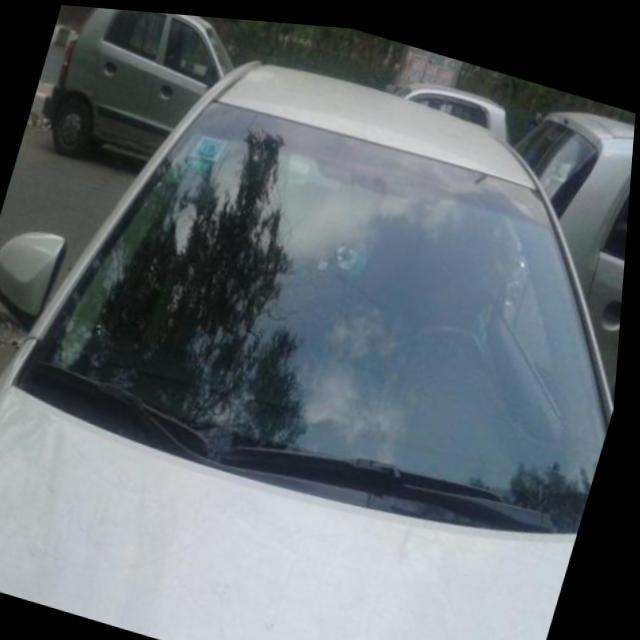glass shatter: (308, 220, 371, 293)
